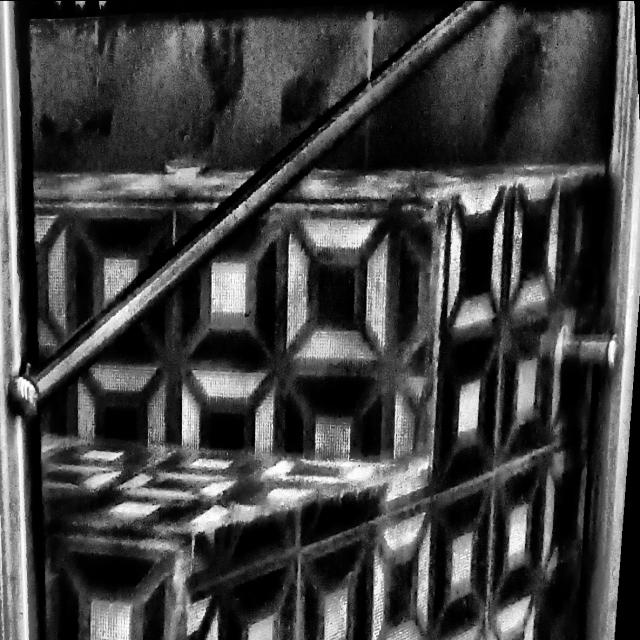stairs: (0, 1, 640, 640)
